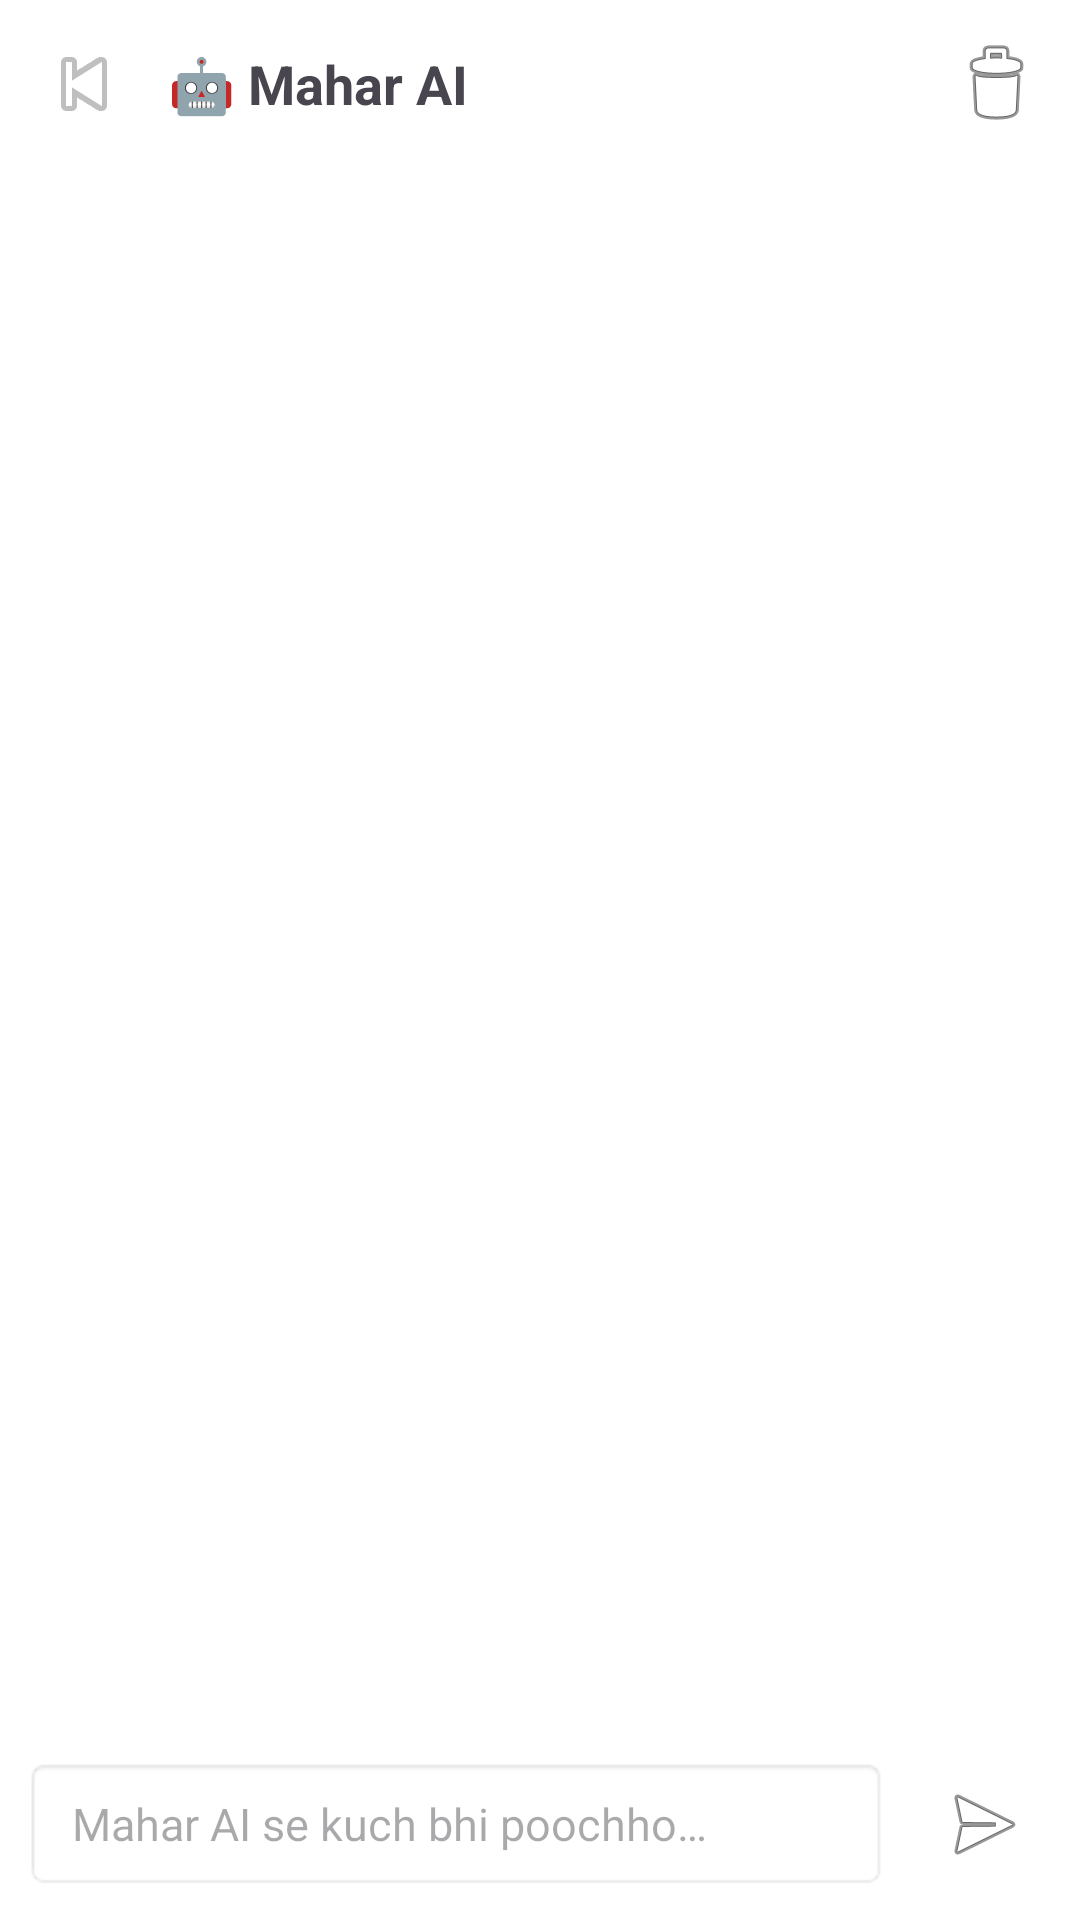

Point at icon controls on the screen. Image size 1080x1920, points as [x,y].
Back: [84,84]
Clear chat: [996,82]
Send: [985,1824]
